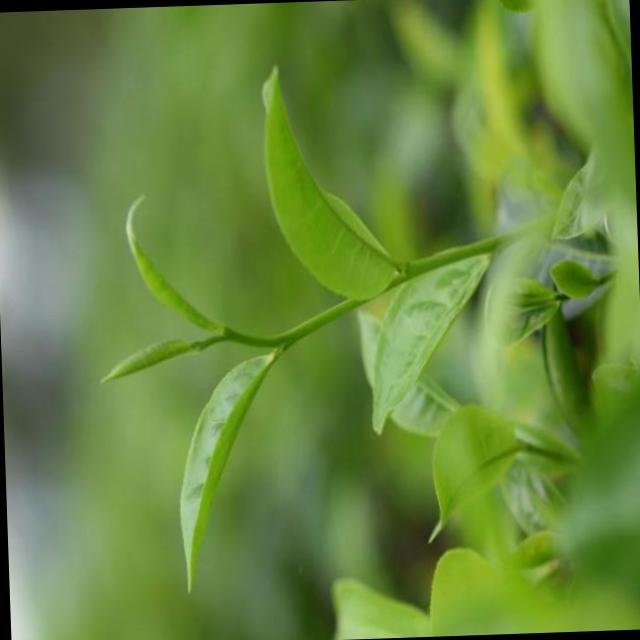Stem: (274, 334, 288, 348)
